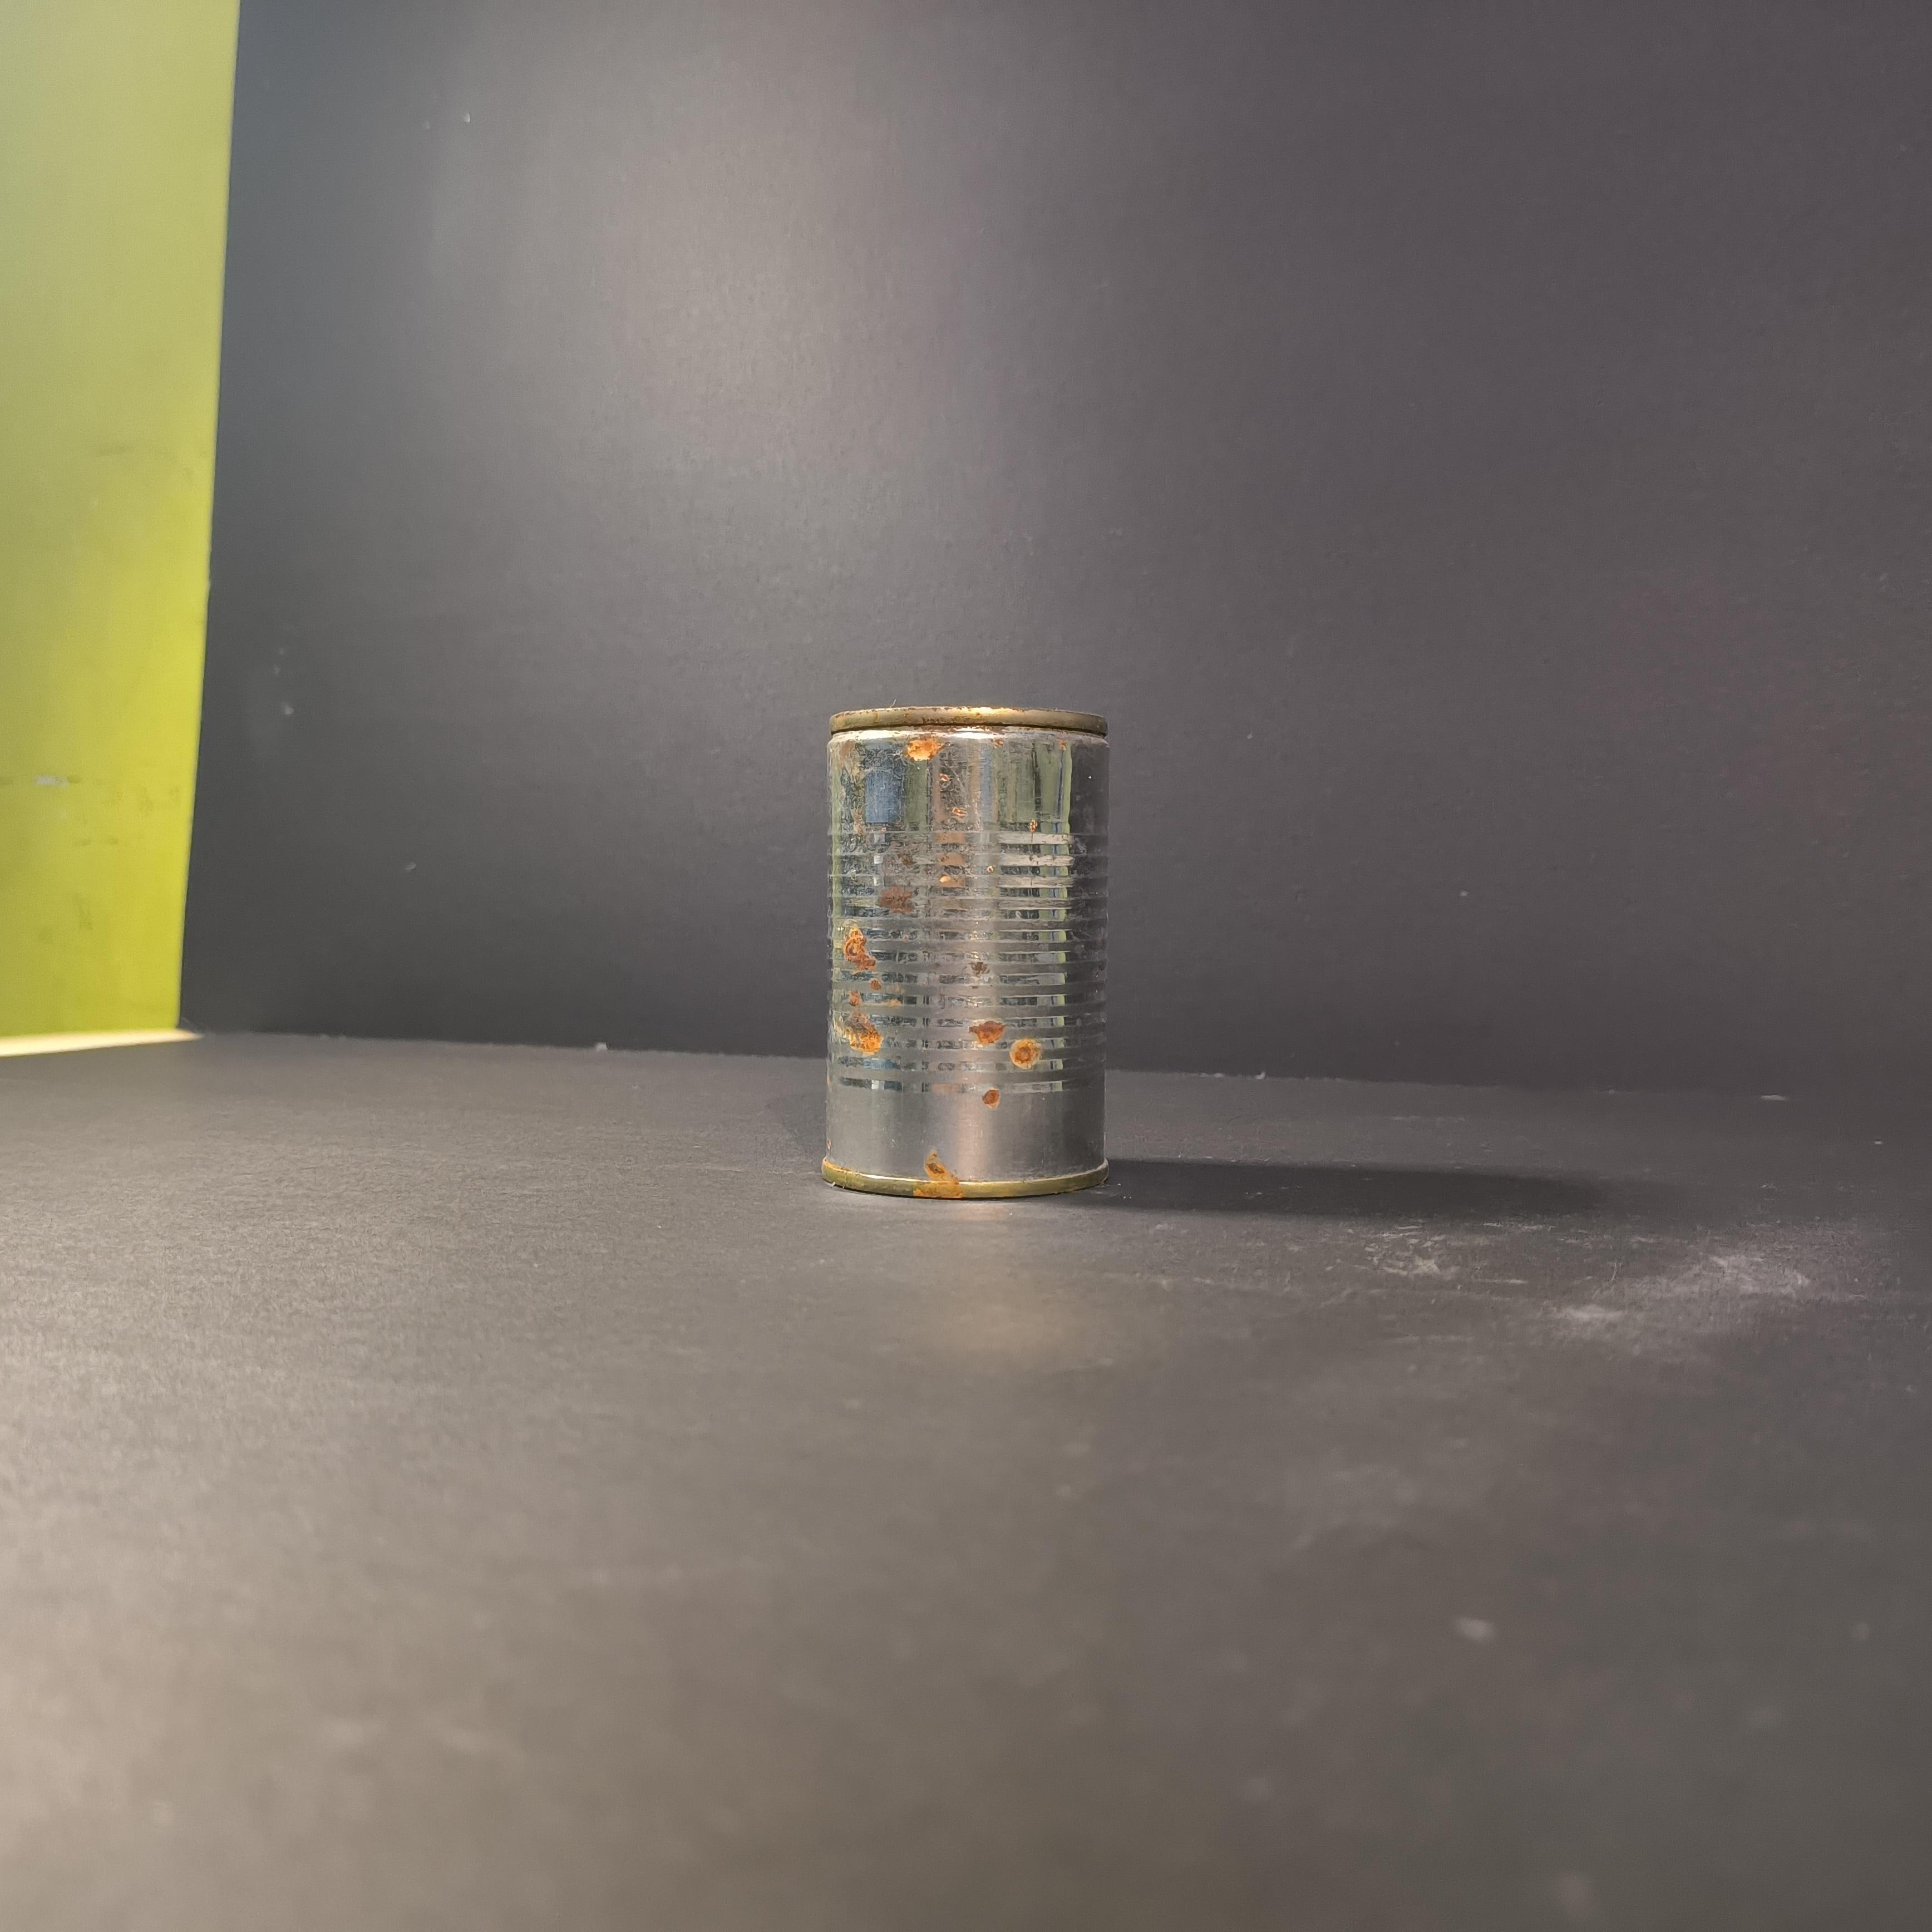Rusted: (812, 667, 1143, 1210)
